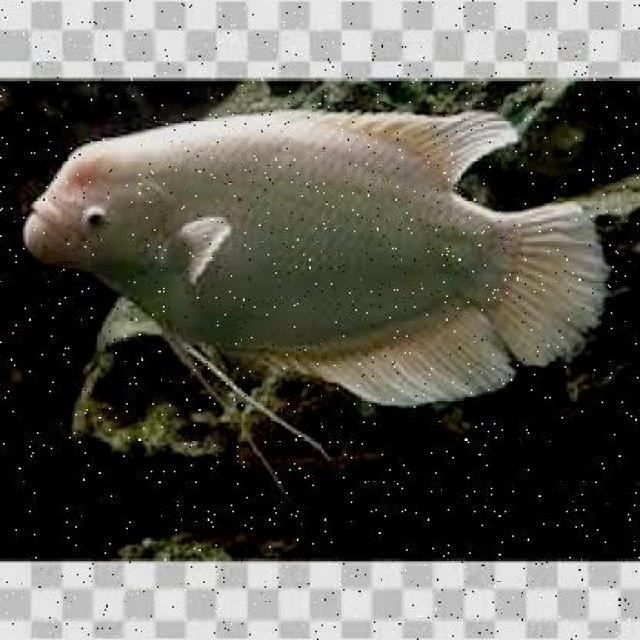gurame: (23, 117, 589, 400)
